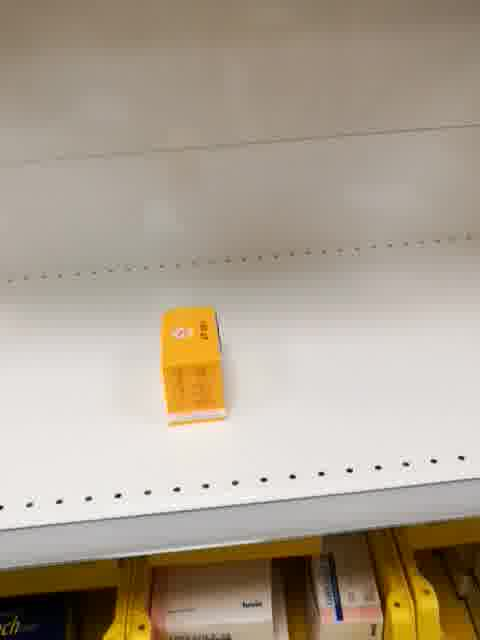jasminetea: (160, 304, 228, 427)
